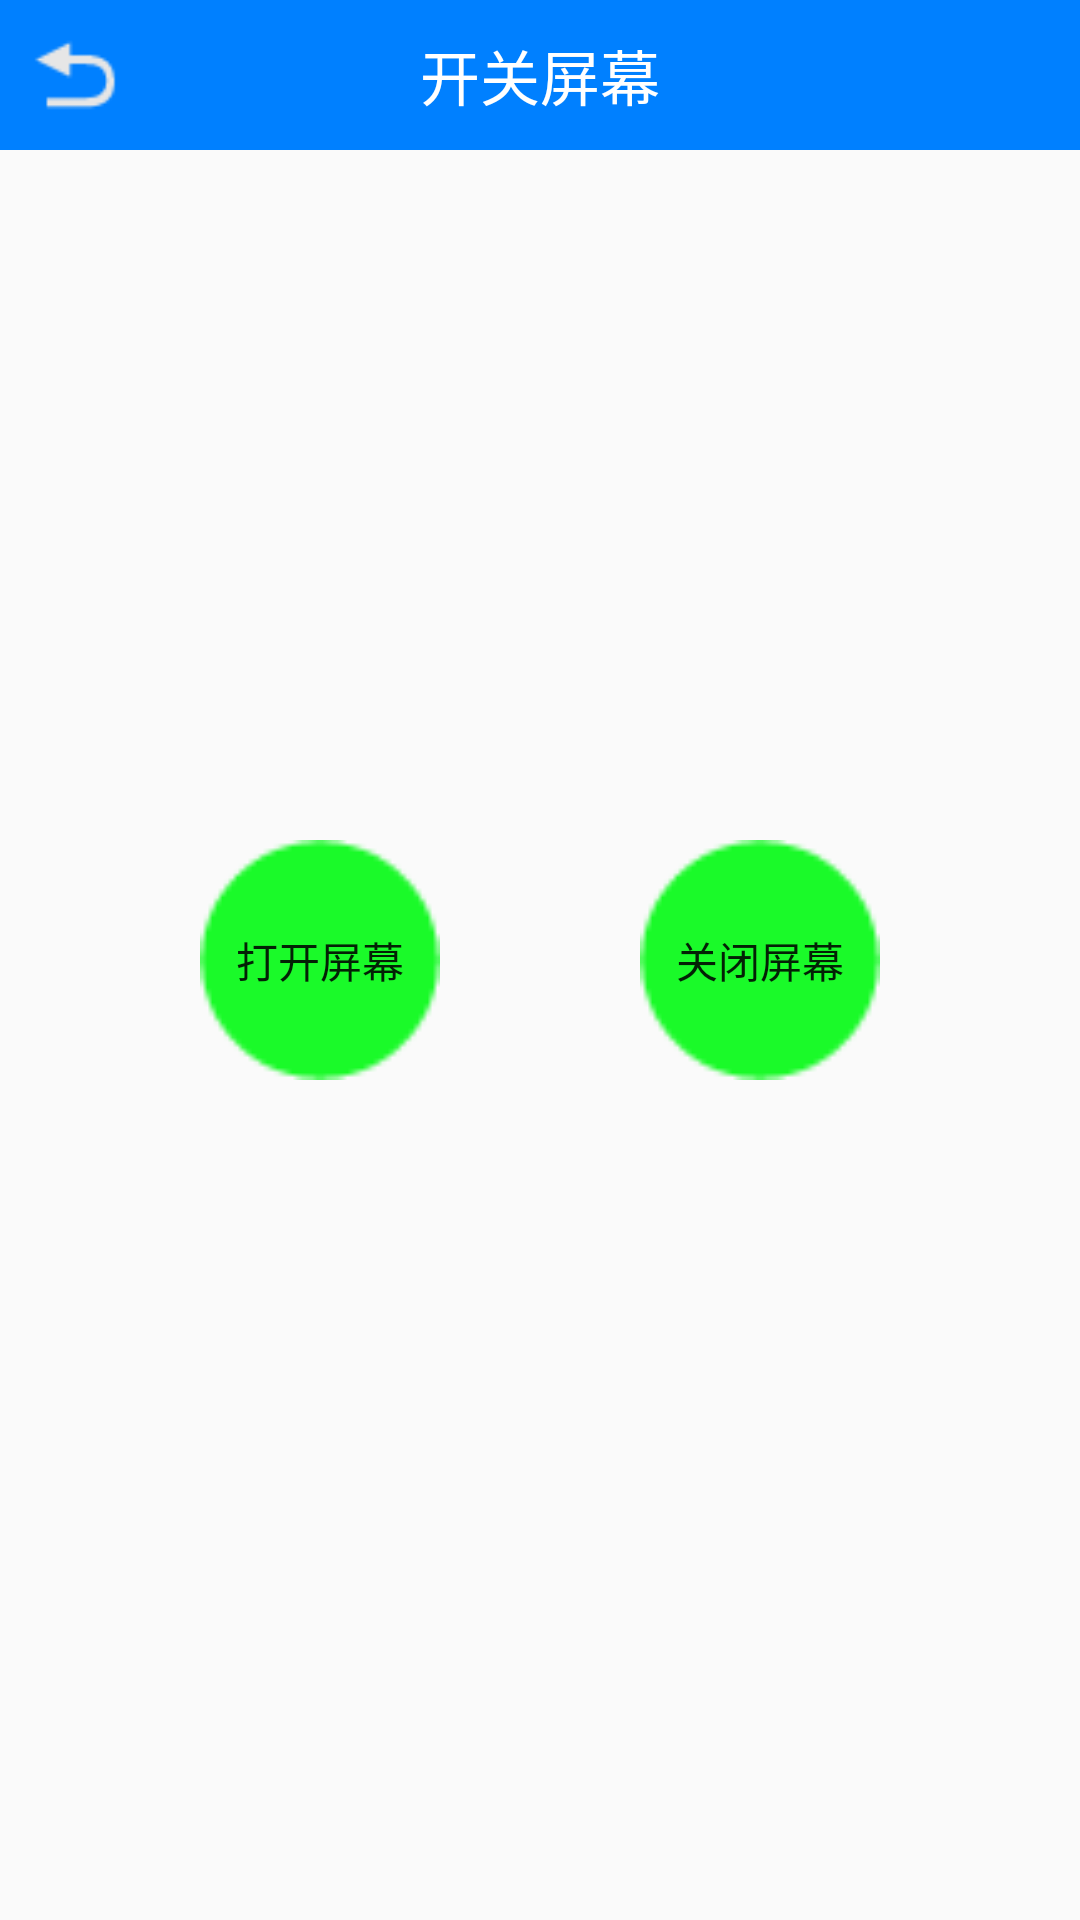

Screen size 1080x1920. Icon name, then its center in pixels as point (x, y):
return: point (75, 75)
